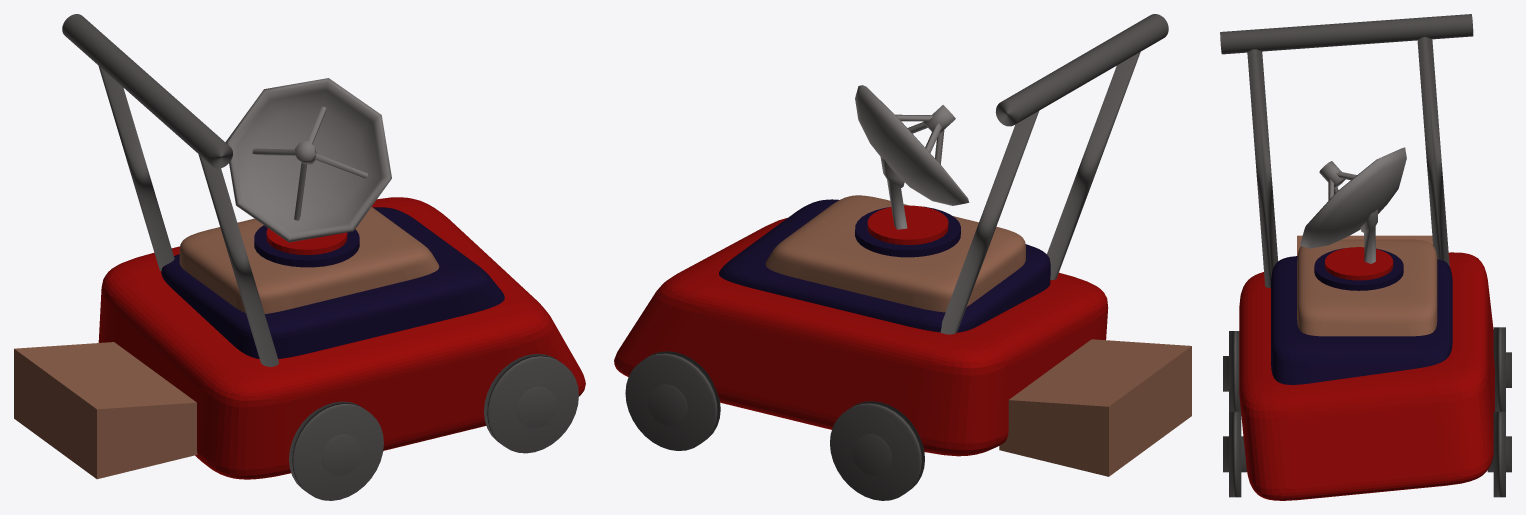
File: Mower2.fbx
3 views of the same model, side by side, from view 1: azimuth 30°, elevation 25°; view 2: azimuth 150°, elevation 25°; view 3: azimuth 270°, elevation 25° (orthographic). The views are drawn at different scales.
Parts seen in each view (by area): view 1: Cube, Cube.003, SM_Prop_SatelliteDish_01, Cube.001, Cylinder.002, Cylinder.010, Cylinder, Cylinder.001; view 2: Cube, Cube.003, Cylinder.002, Cylinder.010, Cube.001, SM_Prop_SatelliteDish_01, Cylinder.001, Cylinder; view 3: Cube, Cylinder.010, Cube.003, Cube.001, SM_Prop_SatelliteDish_01, Cylinder.002, Cylinder.001, Cylinder.
Boxes of the visible parts, left/top/right/bottom form: Cube: left=98, top=197, right=585, bottom=479; Cube.003: left=14, top=207, right=439, bottom=479; SM_Prop_SatelliteDish_01: left=225, top=78, right=391, bottom=242; Cube.001: left=161, top=207, right=504, bottom=358; Cylinder.002: left=289, top=353, right=578, bottom=500; Cylinder.010: left=62, top=14, right=278, bottom=366; Cylinder: left=254, top=225, right=359, bottom=267; Cylinder.001: left=266, top=228, right=347, bottom=254; Cube: left=614, top=218, right=1108, bottom=456; Cube.003: left=765, top=195, right=1191, bottom=476; Cylinder.002: left=625, top=351, right=924, bottom=500; Cylinder.010: left=940, top=14, right=1168, bottom=334; Cube.001: left=719, top=199, right=1050, bottom=332; SM_Prop_SatelliteDish_01: left=855, top=85, right=969, bottom=229; Cylinder.001: left=867, top=205, right=948, bottom=244; Cylinder: left=855, top=206, right=960, bottom=257; Cube: left=1239, top=252, right=1494, bottom=500; Cylinder.010: left=1220, top=14, right=1473, bottom=287; Cube.003: left=1297, top=235, right=1437, bottom=336; Cube.001: left=1271, top=256, right=1452, bottom=384; SM_Prop_SatelliteDish_01: left=1300, top=147, right=1406, bottom=263; Cylinder.002: left=1223, top=327, right=1511, bottom=497; Cylinder.001: left=1325, top=247, right=1393, bottom=280; Cylinder: left=1314, top=248, right=1403, bottom=290.
Bounding box in the file's own units: 171 × 141 × 107.
